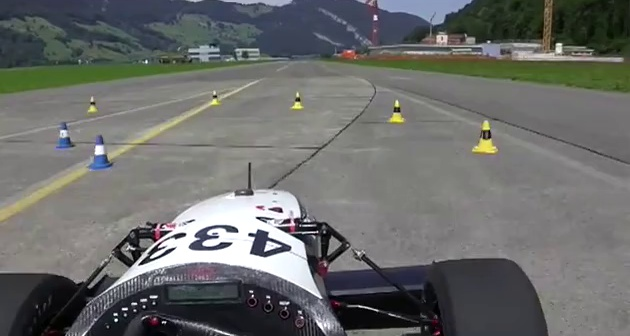Cone: (89, 134, 117, 172), (471, 119, 499, 156), (54, 121, 76, 150), (389, 96, 406, 124), (85, 94, 101, 114), (291, 91, 304, 111), (208, 87, 221, 106)
